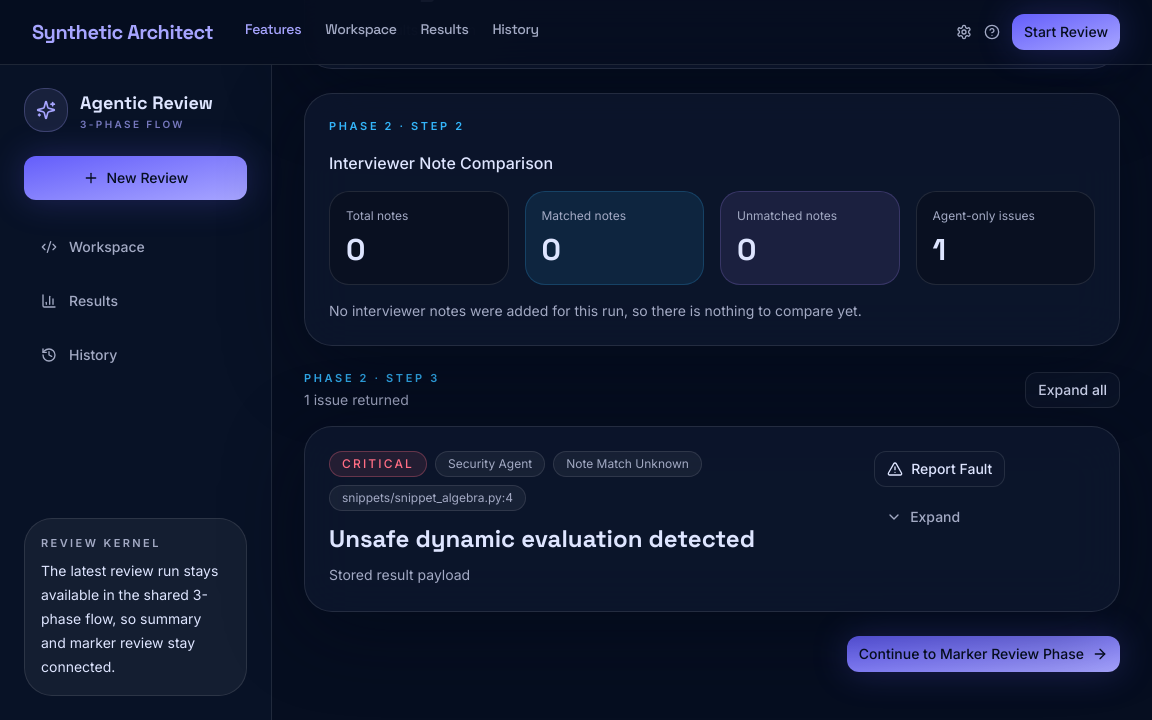
ReviewFlowPage › keeps phase 3 open when a saved result is opened from the results flow
(page scrolled)
Click the button "Continue to Marker Review Phase" at {"x": 983, "y": 654}, box [847,636,1120,672]
(page scrolled)
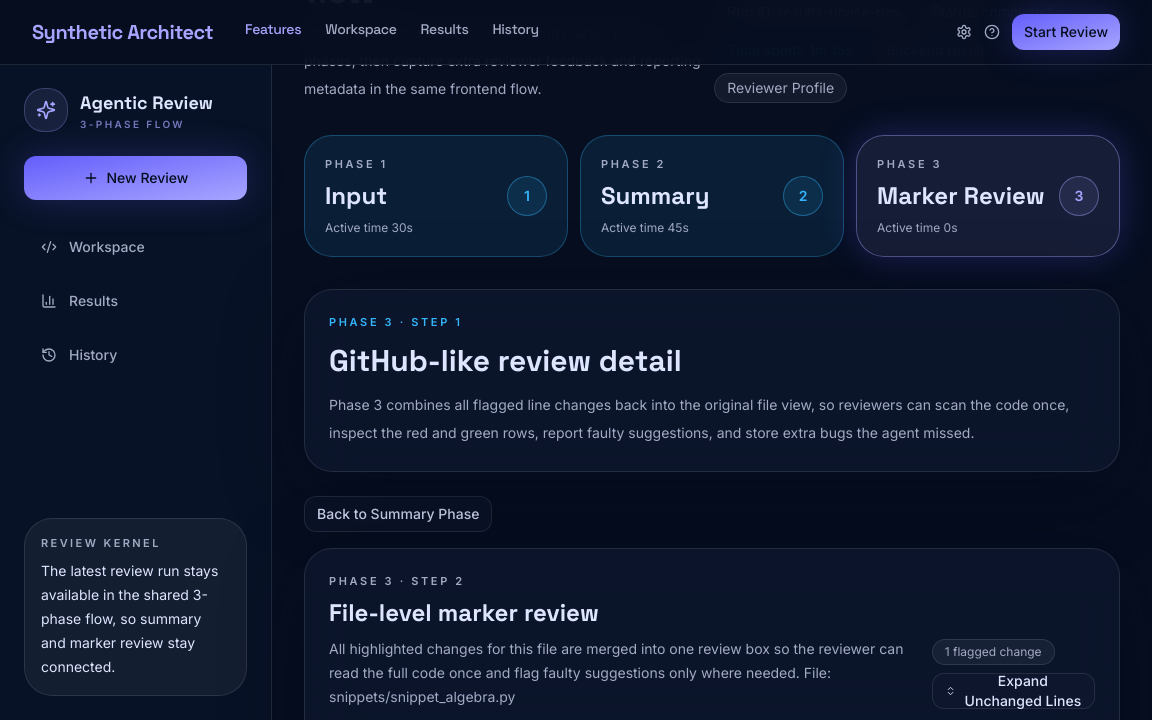
Expected: the heading "Findings overview" is not shown
Expected: the heading "GitHub-like review detail" is shown, [329,340,682,380]
